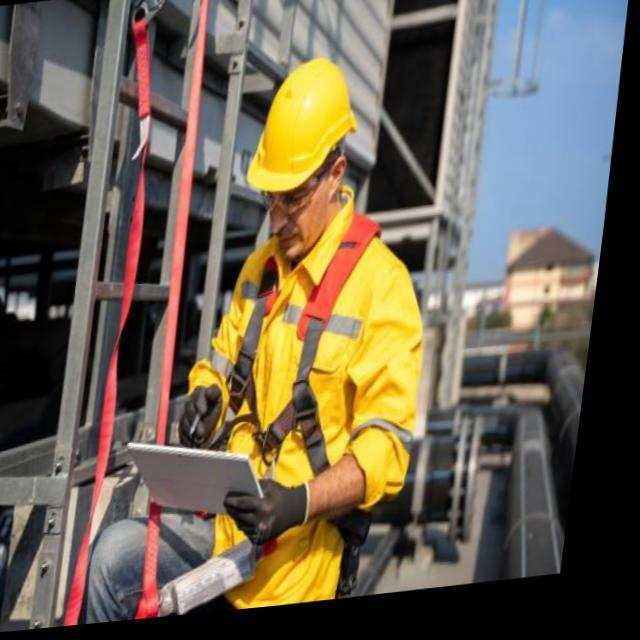belt: (210, 211, 422, 619)
